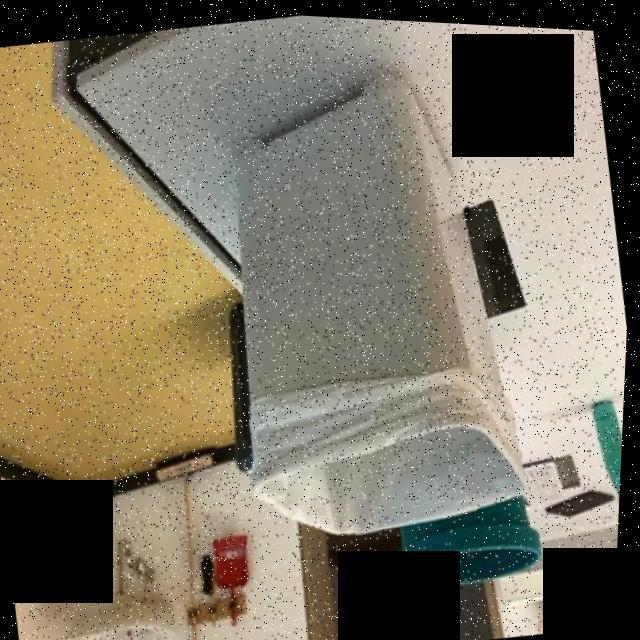bin: (179, 34, 562, 572), (399, 503, 562, 603)
